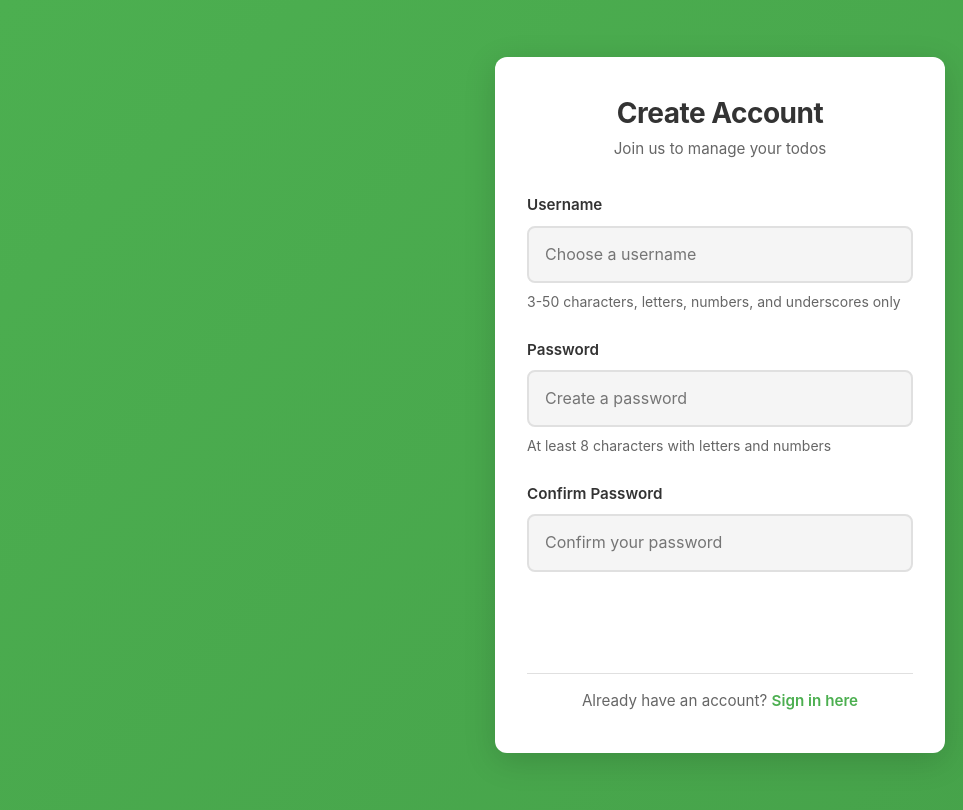
Test: SignupPage.vue › Form Submission › displays error message on failed signup
This screenshot has width=963, height=810.
Type "validuser123" into the field with id "username" at (720, 254), box x1=527 y1=226 x2=913 y2=283
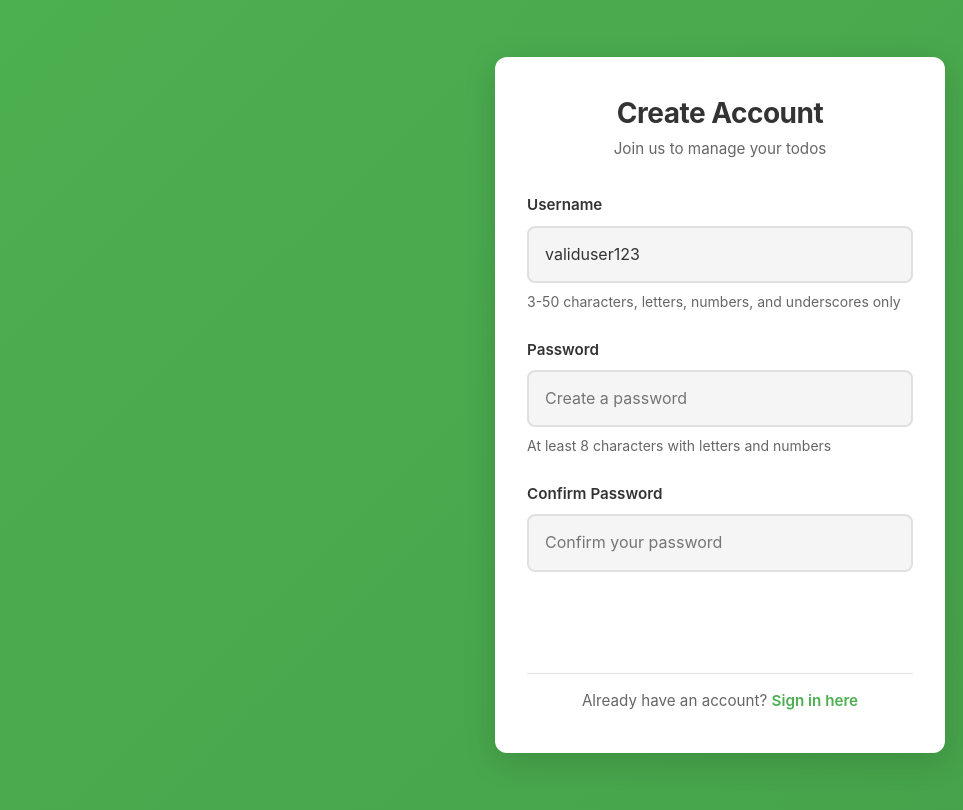
Type "ValidPass123" into the password field labelled "Password" at (720, 399), box x1=527 y1=370 x2=913 y2=428
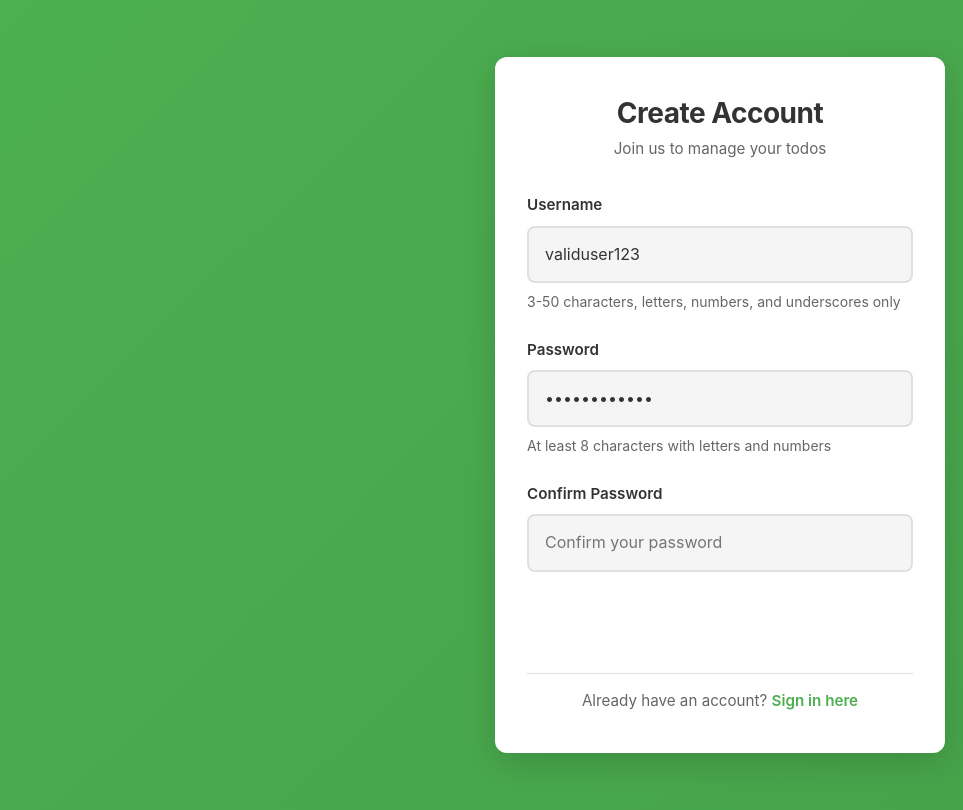
Type "ValidPass123" into the password field labelled "Confirm Password" at (720, 543), box x1=527 y1=514 x2=913 y2=572
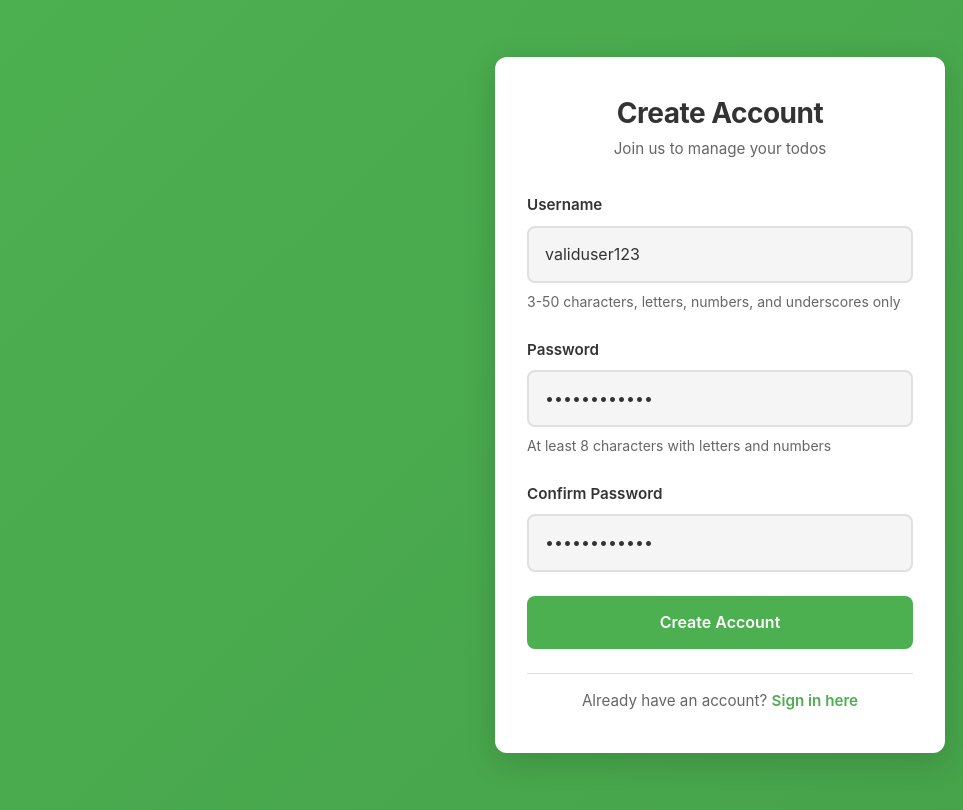
Submit the form, box x1=527 y1=193 x2=913 y2=649
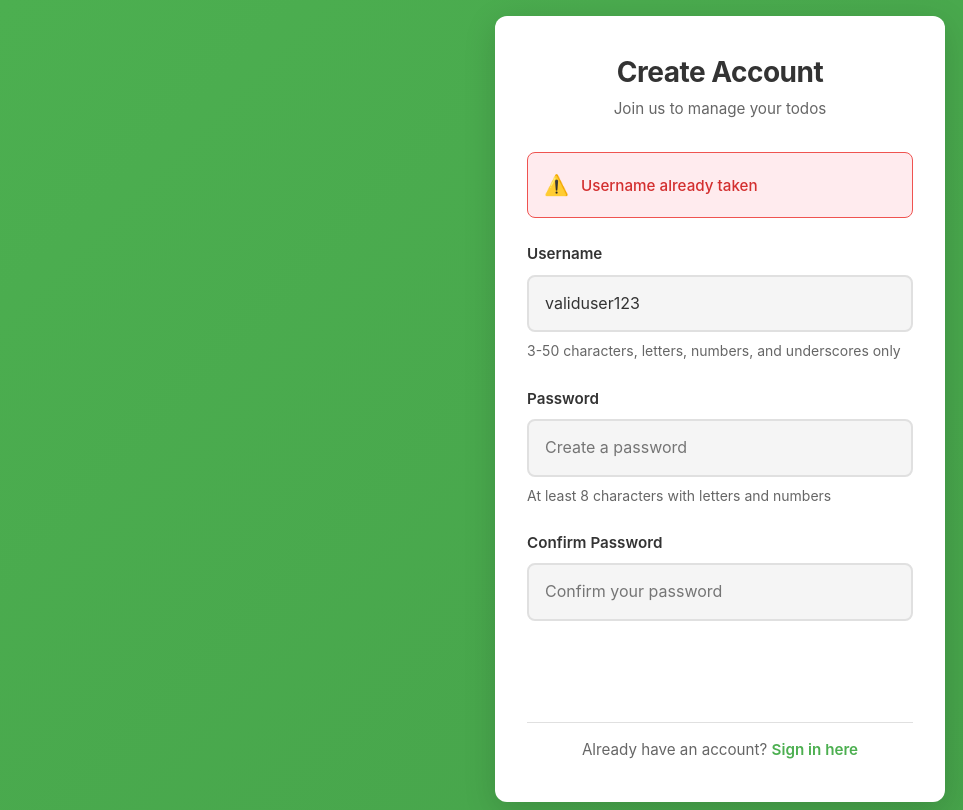
Result: the message "⚠️ Username already taken" is shown at x1=527 y1=152 x2=913 y2=218
